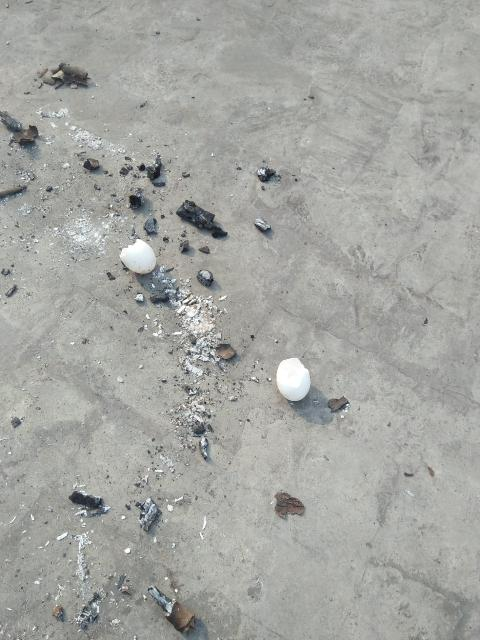Roto: (275, 356, 311, 402), (118, 238, 156, 275)
